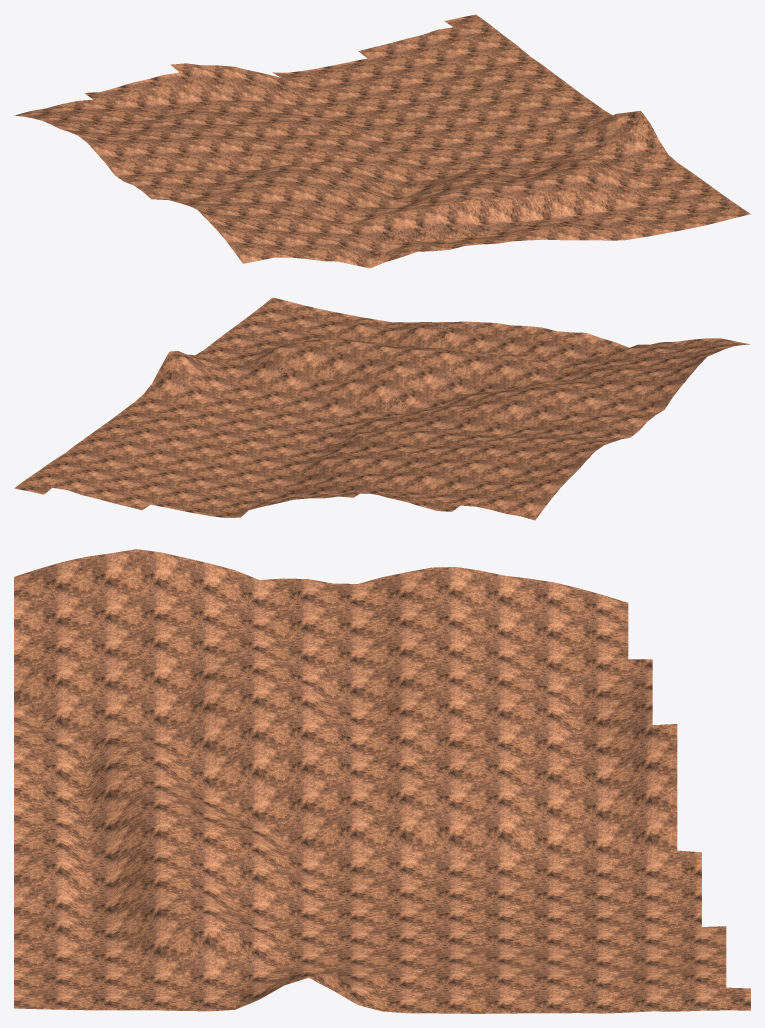
Rendered from terrain_09_00.dae.
The picture shows the model from 3 angles, top to bottom: view 1: azimuth 30°, elevation 25°; view 2: azimuth 150°, elevation 25°; view 3: azimuth 270°, elevation 25°; orthographic projection. The views are drawn at different scales.
Visible parts, largest first — view 1: terrain_09_00-node; view 2: terrain_09_00-node; view 3: terrain_09_00-node.
Part boxes in pixels (<box>): terrain_09_00-node: <box>14,14,750,268</box>; terrain_09_00-node: <box>14,297,749,520</box>; terrain_09_00-node: <box>14,549,750,1013</box>.
Size of the model in its own units: 128 by 120 by 23.81.
1 material, 1 textured.
